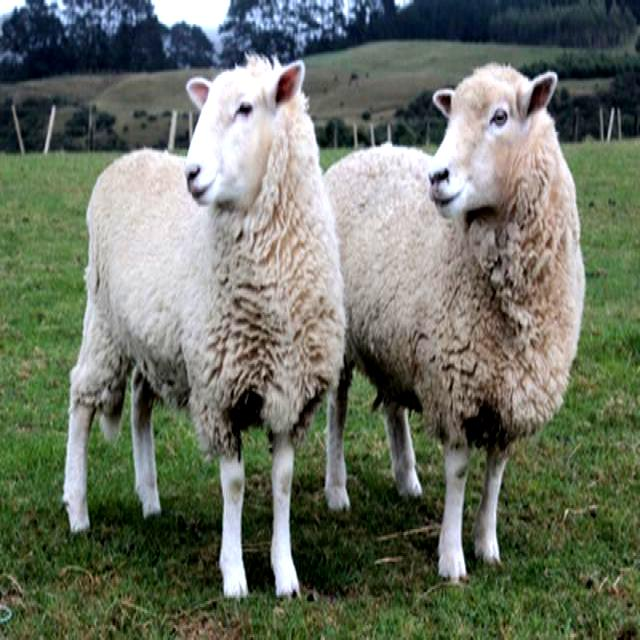sheep: (61, 61, 346, 605), (324, 69, 584, 583)
